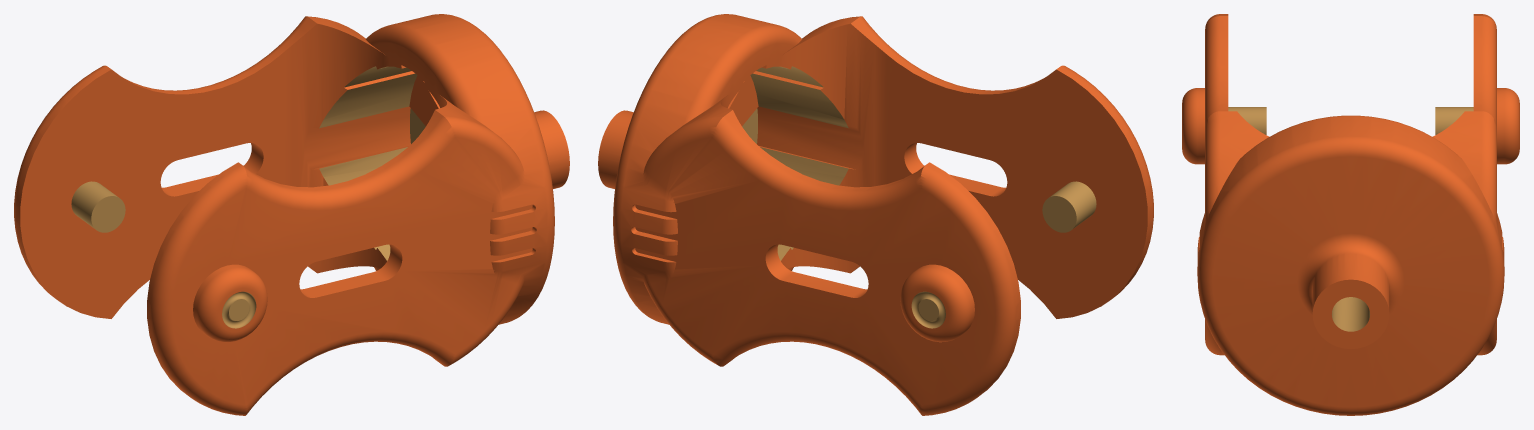
Rendered from rotary-yoke-joint.glb.
3 views of the same model, side by side, from view 1: azimuth 30°, elevation 25°; view 2: azimuth 150°, elevation 25°; view 3: azimuth 270°, elevation 25° (orthographic). The views are drawn at different scales.
Size of the model in its own units: 0.068 by 0.04 by 0.044.
